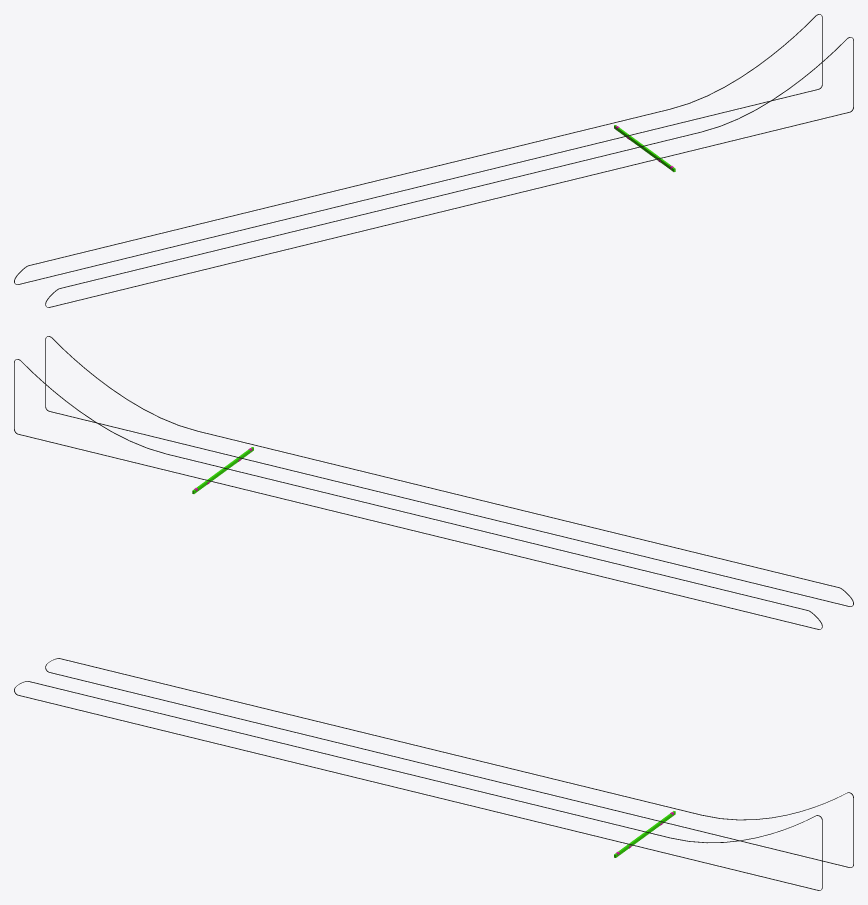
Rendered from SingleFlight.fbx.
3 views of the same model, one above another, from view 1: azimuth 30°, elevation 25°; view 2: azimuth 150°, elevation 25°; view 3: azimuth 330°, elevation 25° (orthographic).
Parts seen in each view (by area): view 1: FlightChain; view 2: FlightChain; view 3: FlightChain.
Boxes of the visible parts, x1,y1,x2,y2 form: FlightChain: (14,14,853,307); FlightChain: (14,336,853,629); FlightChain: (14,658,853,890).
Bounding box in the file's own units: 15843 × 1467 × 2031.
